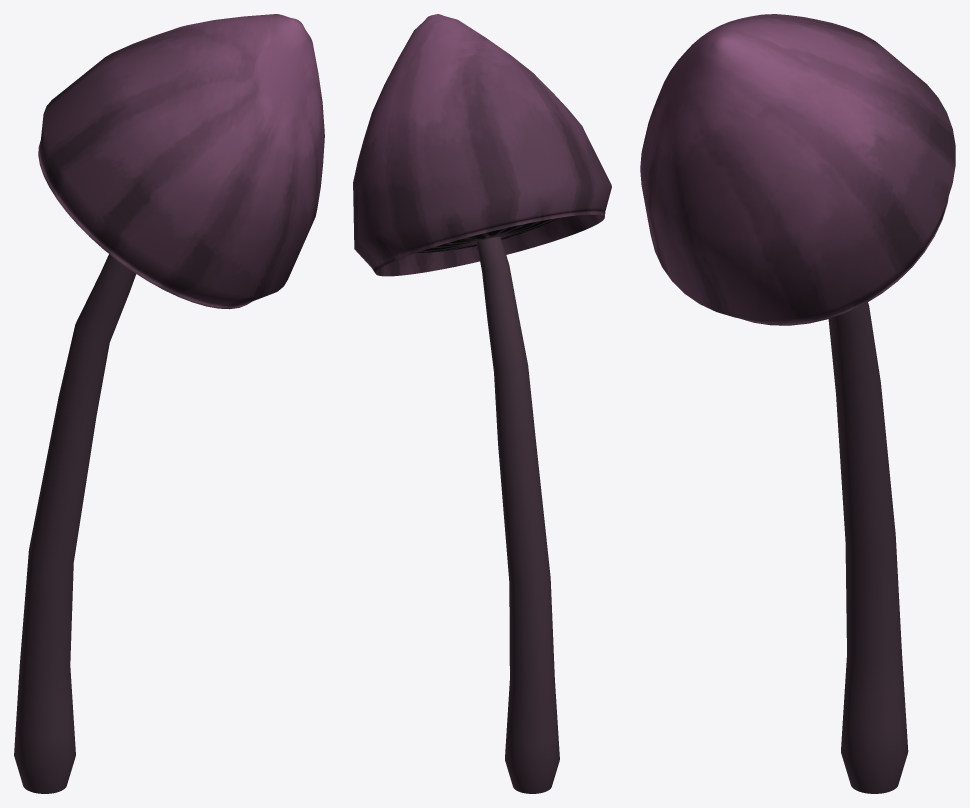
File: Lank Mushroom 1.fbx
3 views of the same model, side by side, from view 1: azimuth 30°, elevation 25°; view 2: azimuth 150°, elevation 25°; view 3: azimuth 270°, elevation 25° (orthographic). The views are drawn at different scales.
Visible parts, largest first — view 1: pasted__pasted__pCylinder1; view 2: pasted__pasted__pCylinder1; view 3: pasted__pasted__pCylinder1.
Boxes of the visible parts, left/top/right/bottom form: pasted__pasted__pCylinder1: left=14, top=14, right=324, bottom=793; pasted__pasted__pCylinder1: left=353, top=14, right=611, bottom=793; pasted__pasted__pCylinder1: left=640, top=14, right=955, bottom=793.
Bounding box in the file's own units: 1.46 × 4.38 × 1.49.
Materials: 1 (1 with a texture image).
